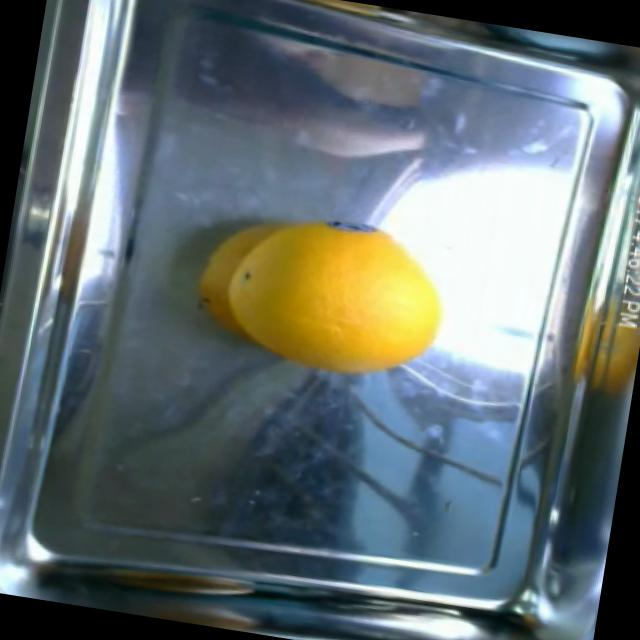Fruit: (176, 191, 384, 372)
